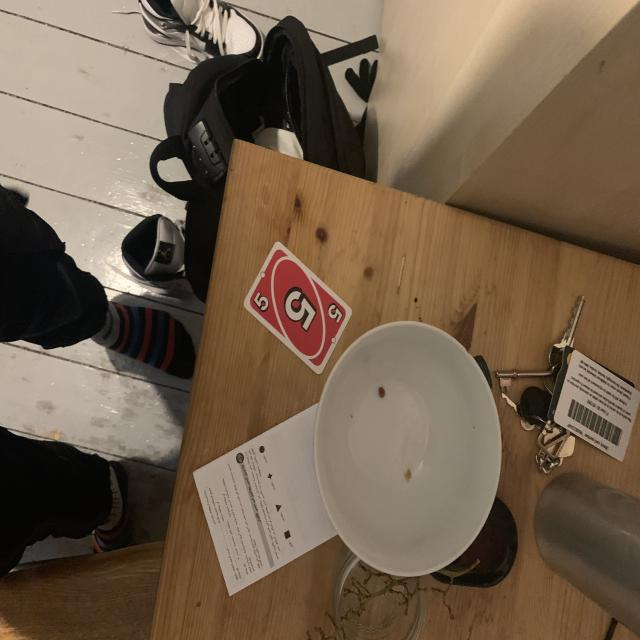lred-5: (252, 289, 270, 315)
